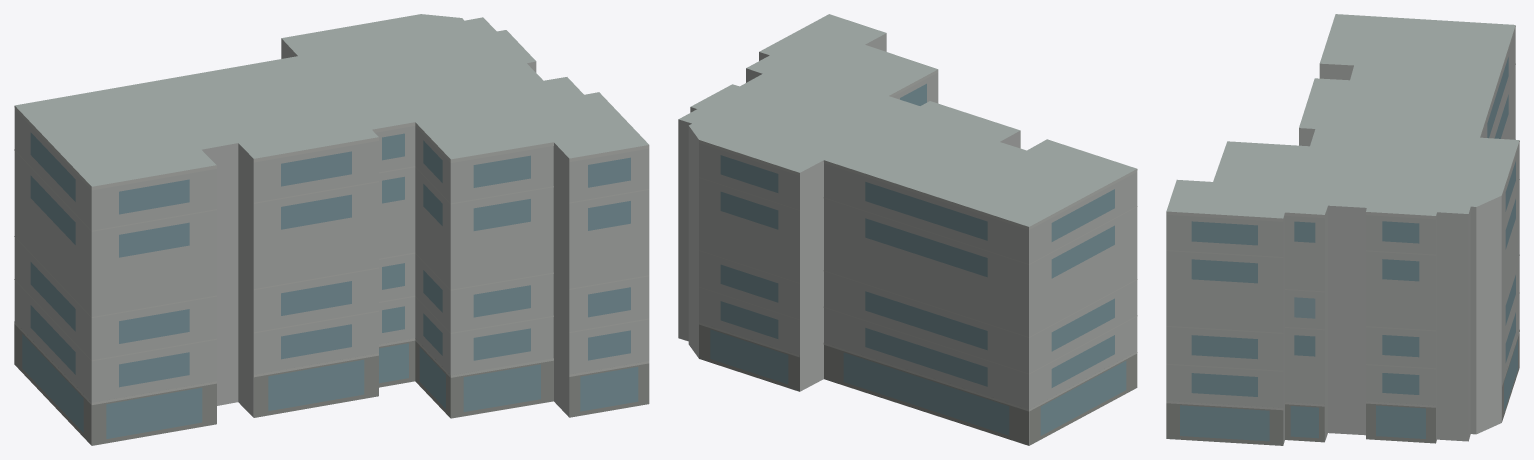
The model's file is survey-upis-32806996.glb.
The picture shows the model from 3 angles, left to right: view 1: azimuth 30°, elevation 25°; view 2: azimuth 150°, elevation 25°; view 3: azimuth 270°, elevation 25°; orthographic projection. The views are drawn at different scales.
Parts seen in each view (by area): view 1: survey-upis-32806996.tmp; view 2: survey-upis-32806996.tmp; view 3: survey-upis-32806996.tmp.
Part boxes in pixels (left/top/right/bottom): survey-upis-32806996.tmp: left=14, top=14, right=649, bottom=445; survey-upis-32806996.tmp: left=678, top=14, right=1137, bottom=445; survey-upis-32806996.tmp: left=1166, top=14, right=1519, bottom=445.
Size of the model in its own units: 32.82 by 17 by 23.97.
